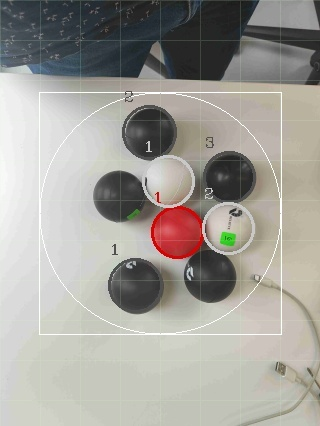Pelota blanca: (106, 257, 163, 315), (140, 153, 195, 208), (201, 201, 257, 254), (92, 169, 145, 224)
Pelota negra: (106, 257, 163, 315), (121, 103, 177, 160), (183, 249, 238, 304), (201, 150, 257, 203)
Pelota roja: (148, 204, 203, 259)
